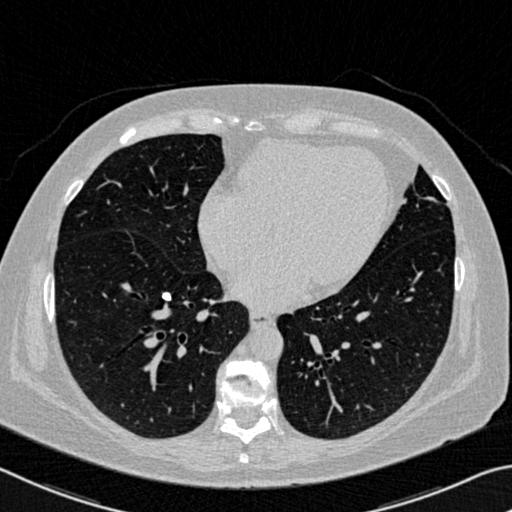nodule: (160, 290, 173, 303)
